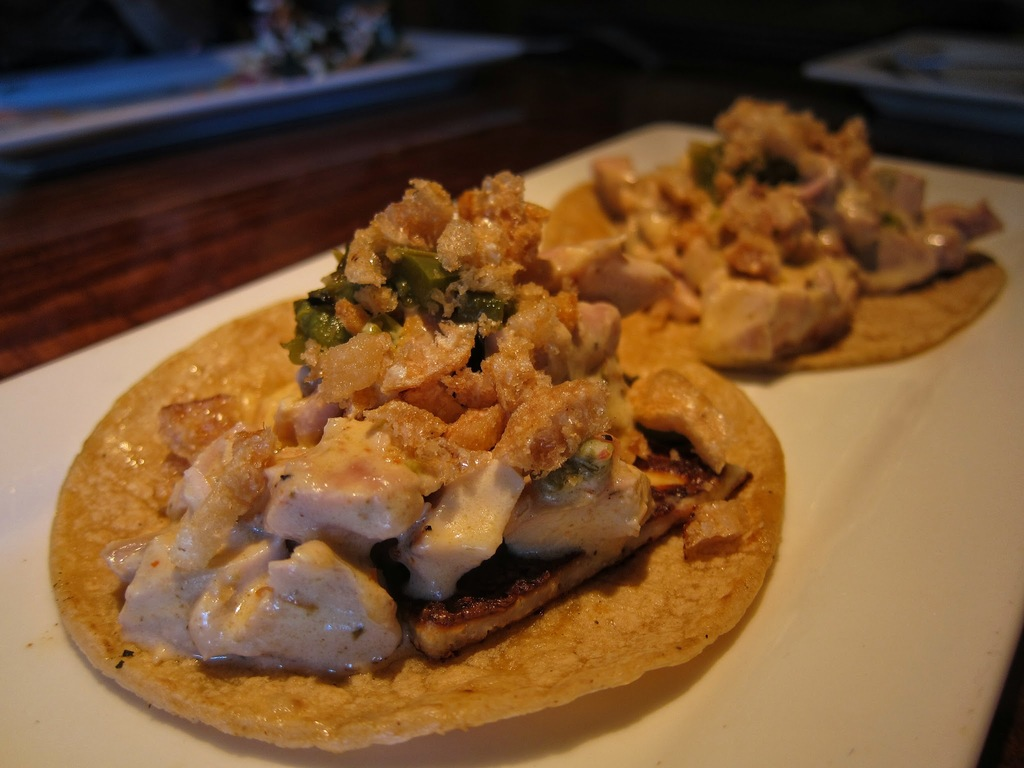taco: (79, 259, 796, 733), (545, 114, 1007, 369)
